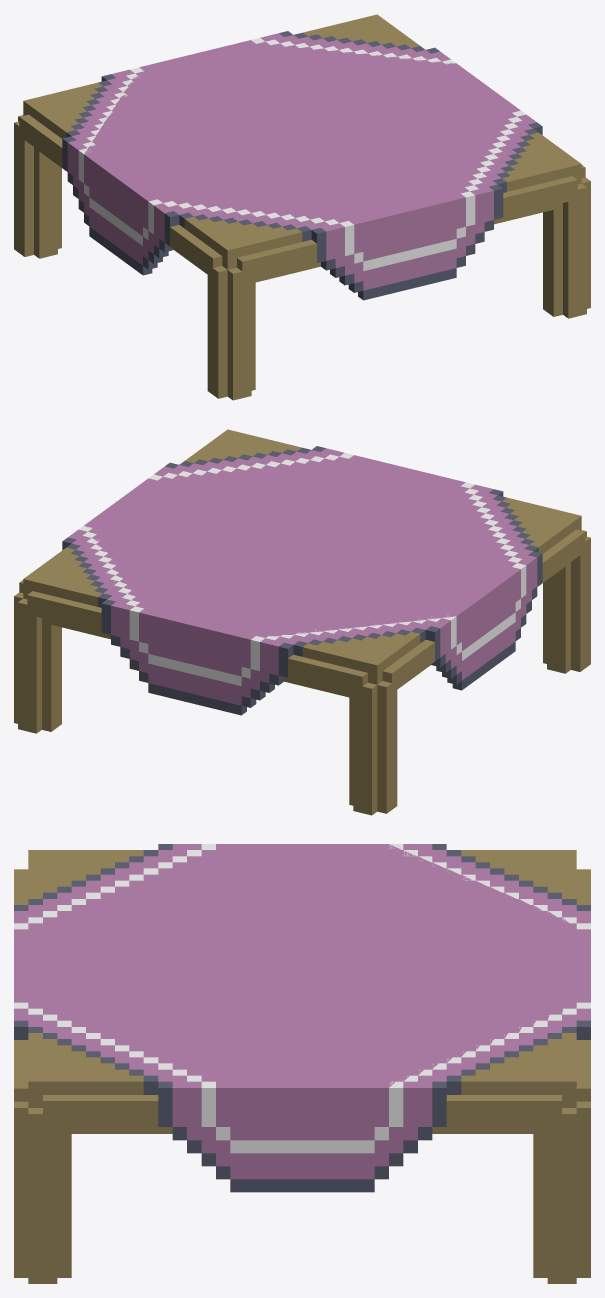
File: Table.fbx
3 renders of one model, top to bottom at view 1: azimuth 30°, elevation 25°; view 2: azimuth 150°, elevation 25°; view 3: azimuth 270°, elevation 25°, orthographic. The views are drawn at different scales.
Visible parts, largest first — view 1: Table; view 2: Table; view 3: Table.
Part boxes in pixels (<box>): Table: <box>14,14,590,400</box>; Table: <box>14,429,590,815</box>; Table: <box>14,844,590,1283</box>.
Bounding box in the file's own units: 250 × 93.75 × 250.
